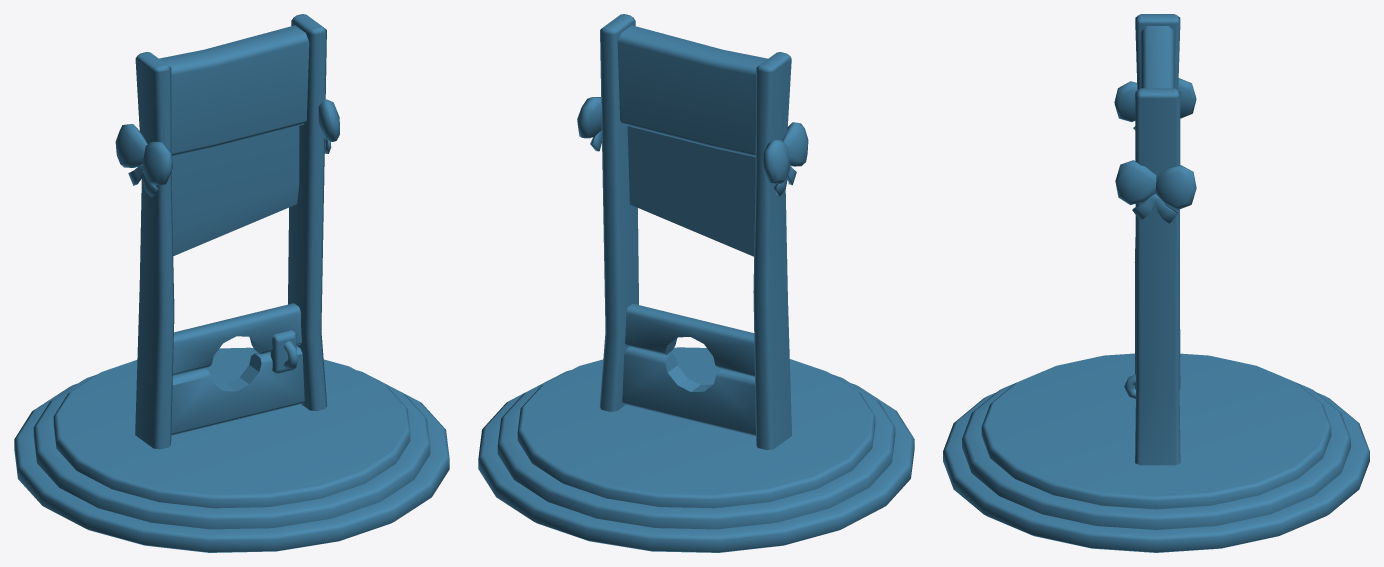
Rendered from Mesh_Guillotina_v001.fbx.
3 views of the same model, side by side, from view 1: azimuth 30°, elevation 25°; view 2: azimuth 150°, elevation 25°; view 3: azimuth 270°, elevation 25° (orthographic). The views are drawn at different scales.
Visible parts, largest first — view 1: Mesh_Guillotina_v001; view 2: Mesh_Guillotina_v001; view 3: Mesh_Guillotina_v001.
Boxes of the visible parts, left/top/right/bottom form: Mesh_Guillotina_v001: left=14, top=14, right=449, bottom=552; Mesh_Guillotina_v001: left=478, top=14, right=914, bottom=552; Mesh_Guillotina_v001: left=943, top=14, right=1369, bottom=552.
Size of the model in its own units: 11.93 by 12.68 by 11.93.
